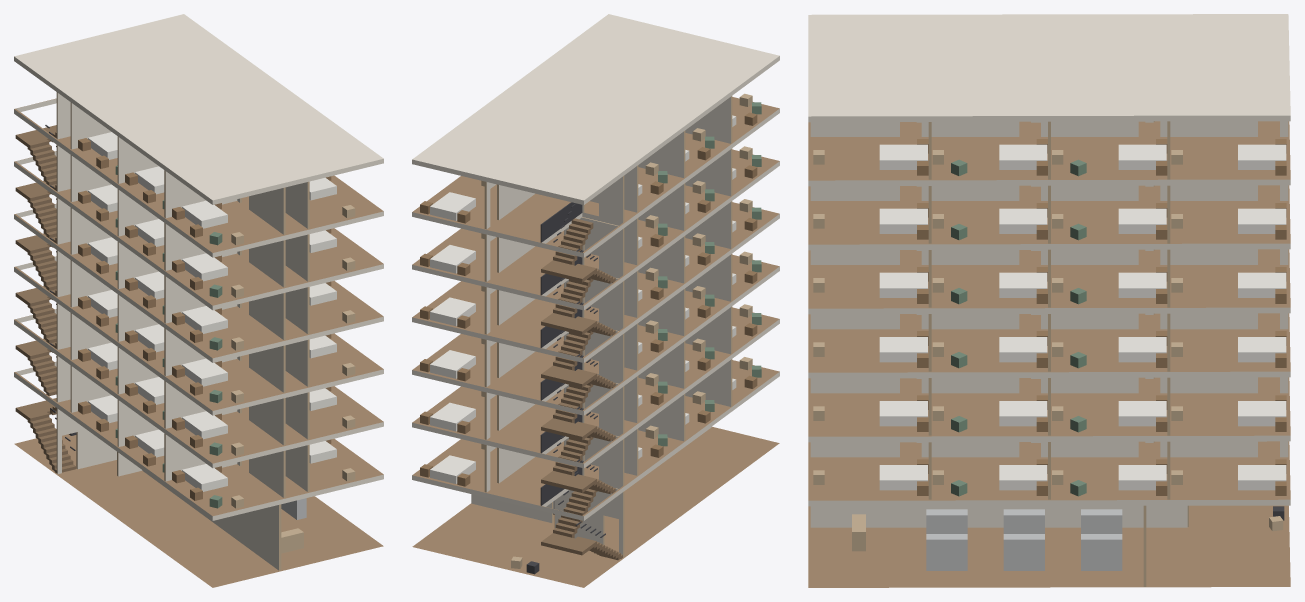
The model's file is interior.glb.
3 renders of one model, left to right at view 1: azimuth 30°, elevation 25°; view 2: azimuth 150°, elevation 25°; view 3: azimuth 270°, elevation 25°, orthographic. The views are drawn at different scales.
Parts seen in each view (by area): view 1: slabs, partitions, stair, coarse-s2, coarse-s4, coarse-s1, coarse-s5, coarse-s6, coarse-s3, coarse-s0; view 2: slabs, partitions, stair, coarse-s3, coarse-s1, coarse-s5, coarse-s6, coarse-s2, coarse-s4; view 3: slabs, partitions, coarse-s0, coarse-s1, coarse-s5, coarse-s6, coarse-s2, coarse-s3, coarse-s4.
Part boxes in pixels (x1,y1,x2,y2): slabs: [14, 14, 383, 587]; partitions: [56, 92, 309, 570]; stair: [15, 125, 75, 473]; coarse-s2: [78, 342, 355, 455]; coarse-s4: [78, 237, 355, 350]; coarse-s1: [78, 395, 355, 508]; coarse-s5: [78, 184, 355, 297]; coarse-s6: [78, 132, 355, 245]; coarse-s3: [78, 290, 355, 403]; coarse-s0: [69, 432, 306, 553]; slabs: [412, 14, 779, 587]; partitions: [471, 96, 732, 557]; stair: [540, 202, 622, 560]; coarse-s3: [420, 251, 761, 381]; coarse-s1: [420, 357, 761, 486]; coarse-s5: [420, 146, 761, 275]; coarse-s6: [420, 93, 761, 223]; coarse-s2: [420, 304, 761, 433]; coarse-s4: [420, 199, 761, 328]; slabs: [808, 14, 1290, 587]; partitions: [810, 121, 1288, 586]; coarse-s0: [852, 506, 1284, 570]; coarse-s1: [813, 459, 1286, 496]; coarse-s5: [813, 203, 1286, 240]; coarse-s6: [813, 139, 1286, 176]; coarse-s2: [813, 395, 1286, 432]; coarse-s3: [813, 331, 1286, 368]; coarse-s4: [813, 267, 1286, 304].
Size of the model in its own units: 10.04 by 21.55 by 19.97.
